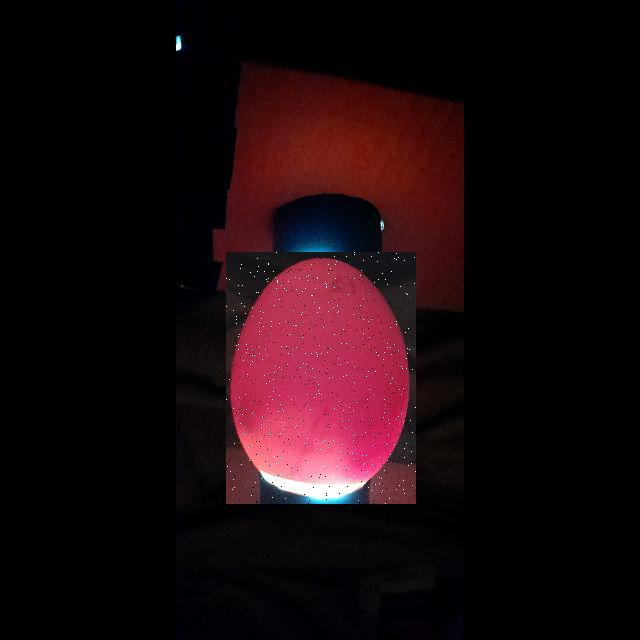Fertile: (226, 252, 416, 504)
